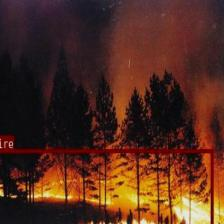fire: (0, 148, 212, 223)
